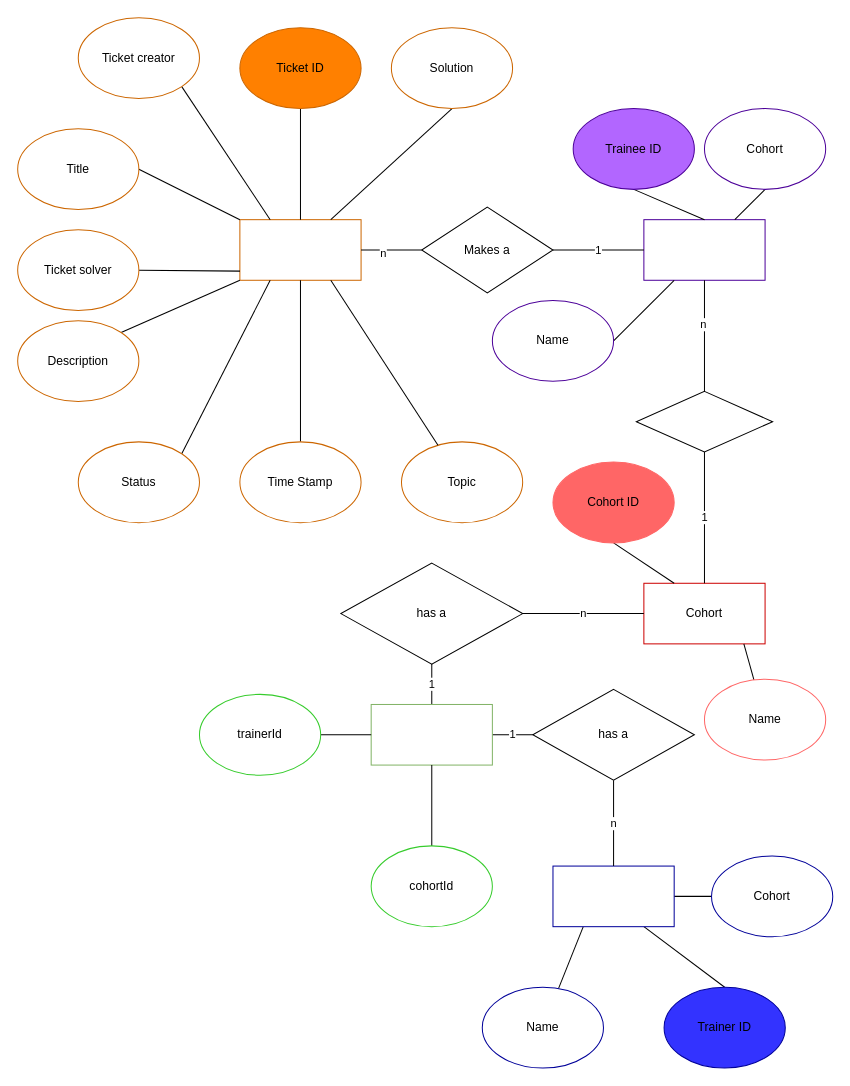
This 850x1086 diagram has some shape labels left out. The shapes that lost their labels are listed below. From the top down, each one's centre as x and y in pixels, then its label:
At pixel 300 249: "ticket".
At pixel 704 249: "Trainee".
At pixel 704 421: "Teaches a".
At pixel 431 734: "Link table".
At pixel 613 896: "Trainer".
